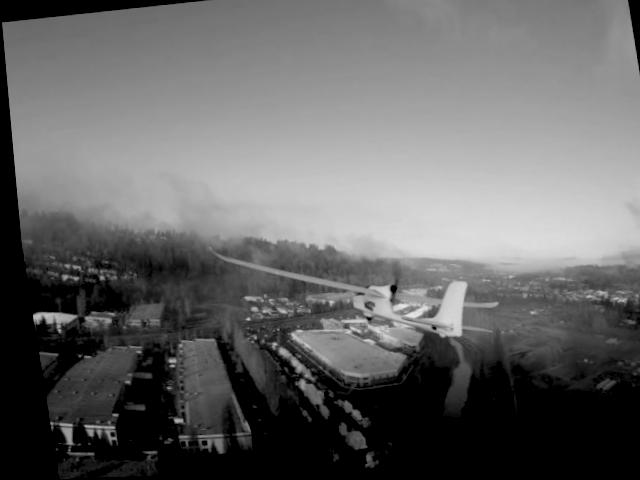hedef: (187, 209, 526, 403)
